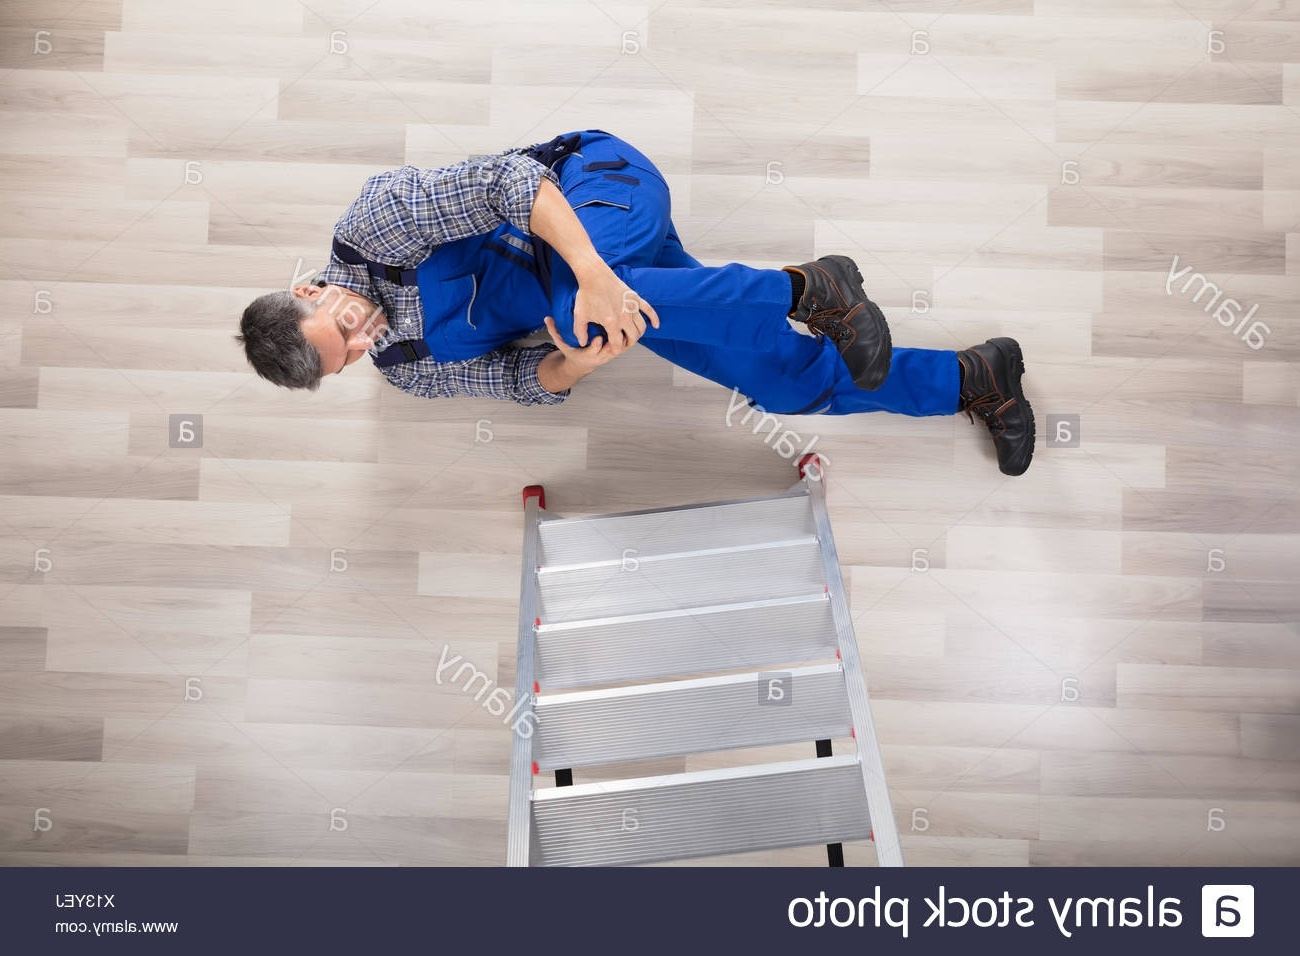fall: (189, 113, 1095, 491)
